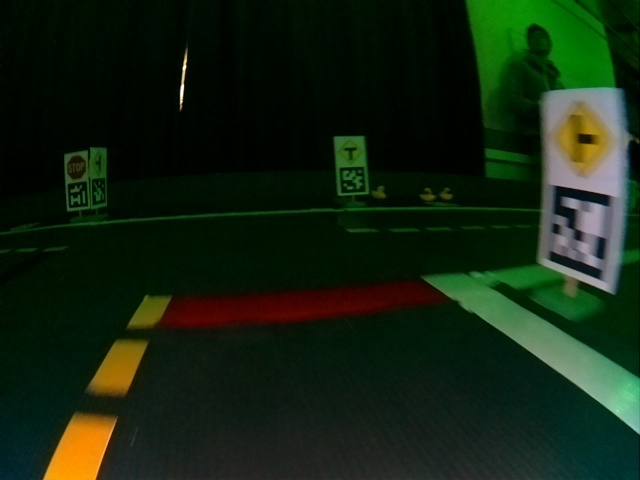Duckie: (420, 188, 434, 200), (373, 186, 384, 196), (443, 189, 452, 200)
Intersection sign: (546, 94, 617, 178), (338, 139, 365, 164), (92, 151, 106, 175)
QR code: (545, 188, 616, 280), (339, 168, 366, 194), (67, 182, 87, 208), (93, 179, 107, 204)
Stop sign: (66, 154, 86, 178)
